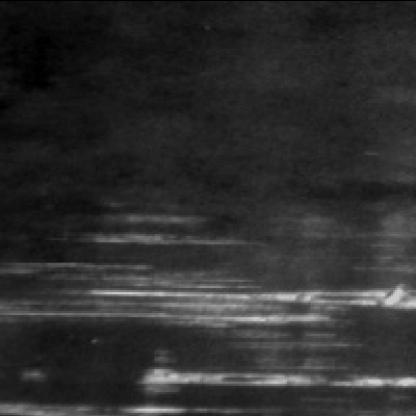scratches: (40, 262, 416, 326), (140, 347, 416, 393)
